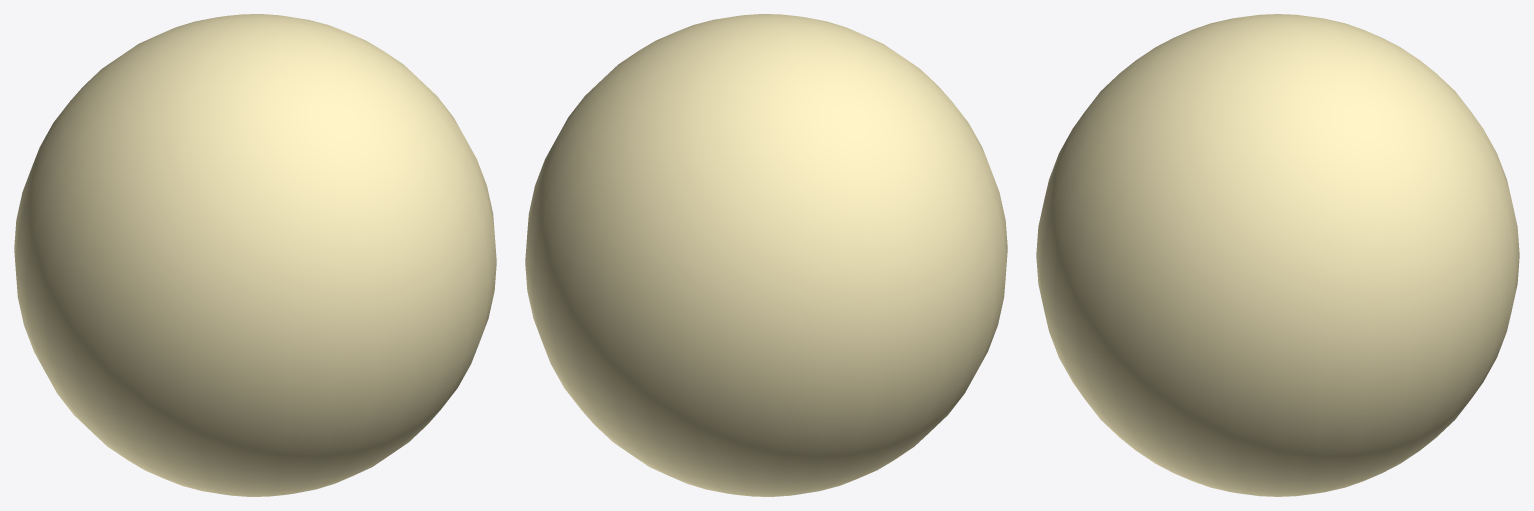
Rendered from Sun_LOD0.fbx.
3 views of the same model, side by side, from view 1: azimuth 30°, elevation 25°; view 2: azimuth 150°, elevation 25°; view 3: azimuth 270°, elevation 25° (orthographic).
Visible parts, largest first — view 1: Sun_LOD0; view 2: Sun_LOD0; view 3: Sun_LOD0.
Boxes of the visible parts, left/top/right/bottom form: Sun_LOD0: left=14, top=14, right=496, bottom=496; Sun_LOD0: left=525, top=14, right=1007, bottom=496; Sun_LOD0: left=1036, top=14, right=1519, bottom=496.
Bounding box in the file's own units: 2 × 2 × 2.
